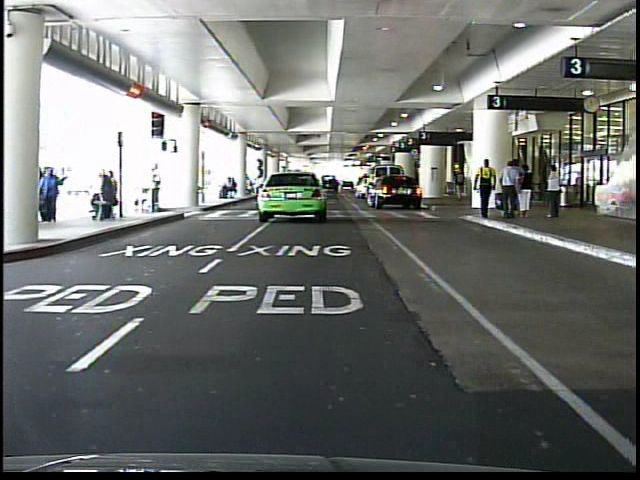person: (543, 161, 572, 229), (43, 162, 71, 225), (472, 155, 496, 225), (509, 154, 531, 225), (143, 163, 169, 219), (518, 160, 534, 219), (452, 164, 469, 207)
